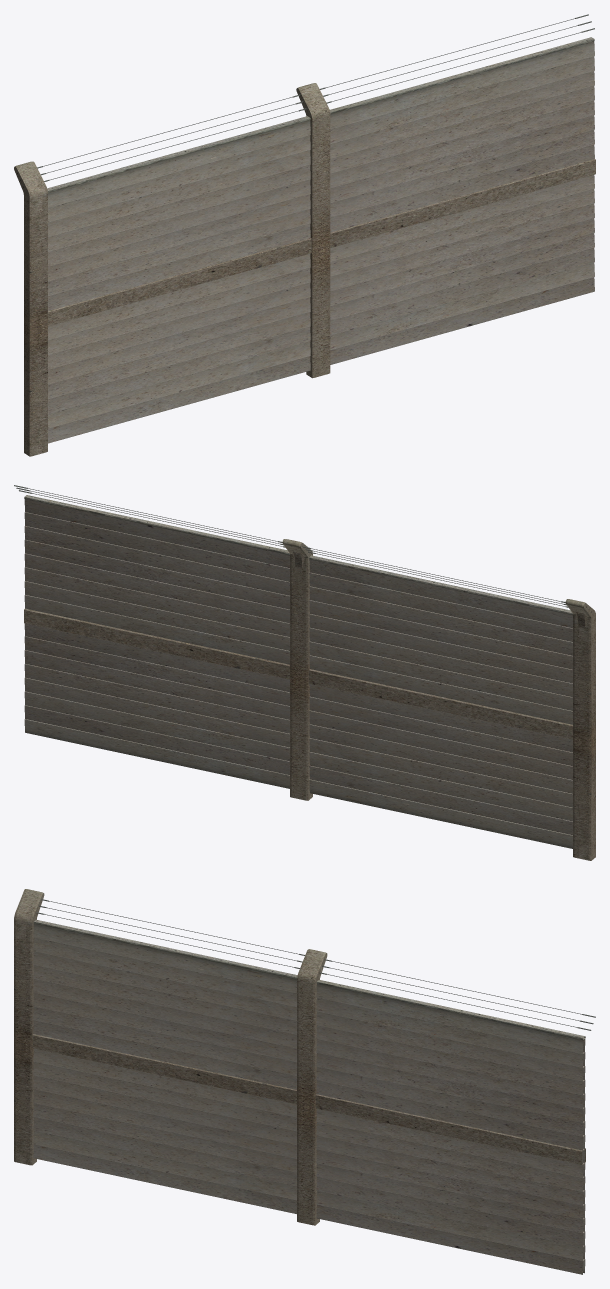
File: object_29.004_lev2.glb
3 views of the same model, one above another, from view 1: azimuth 30°, elevation 25°; view 2: azimuth 150°, elevation 25°; view 3: azimuth 330°, elevation 25° (orthographic). The views are drawn at different scales.
Parts seen in each view (by area): view 1: object_29.004_lev2; view 2: object_29.004_lev2; view 3: object_29.004_lev2.
Boxes of the visible parts, x1,y1,x2,y2 form: object_29.004_lev2: (14, 14, 595, 456); object_29.004_lev2: (14, 485, 595, 860); object_29.004_lev2: (14, 889, 595, 1274).
Bounding box in the file's own units: 24.04 × 10.91 × 2.22.
1 material, 1 textured.
